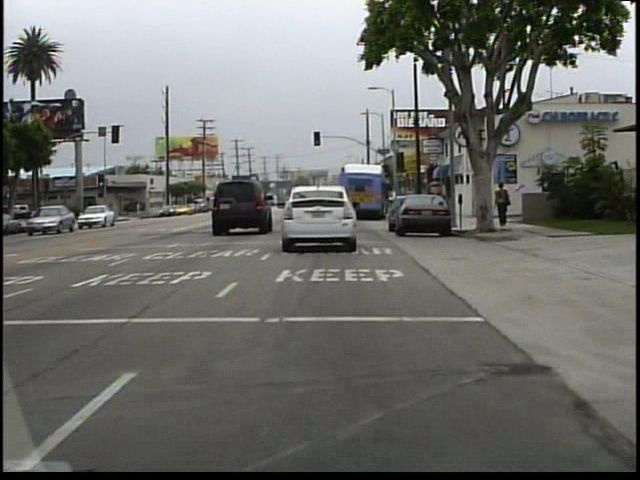person: (492, 180, 512, 229), (494, 180, 511, 227), (134, 198, 145, 219)
